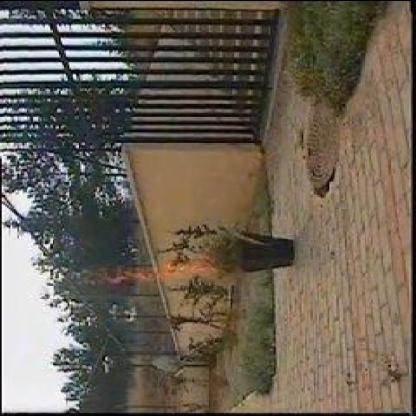-: (46, 280, 91, 308)
foggia-v2-map80-epoch100 - v1 4323: (76, 258, 213, 286)
